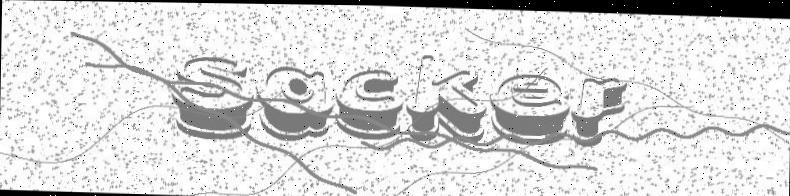a: (257, 63, 332, 141)
c: (335, 67, 405, 138)
e: (491, 72, 571, 144)
k: (406, 53, 487, 141)
r: (573, 74, 627, 144)
s: (172, 55, 252, 139)
